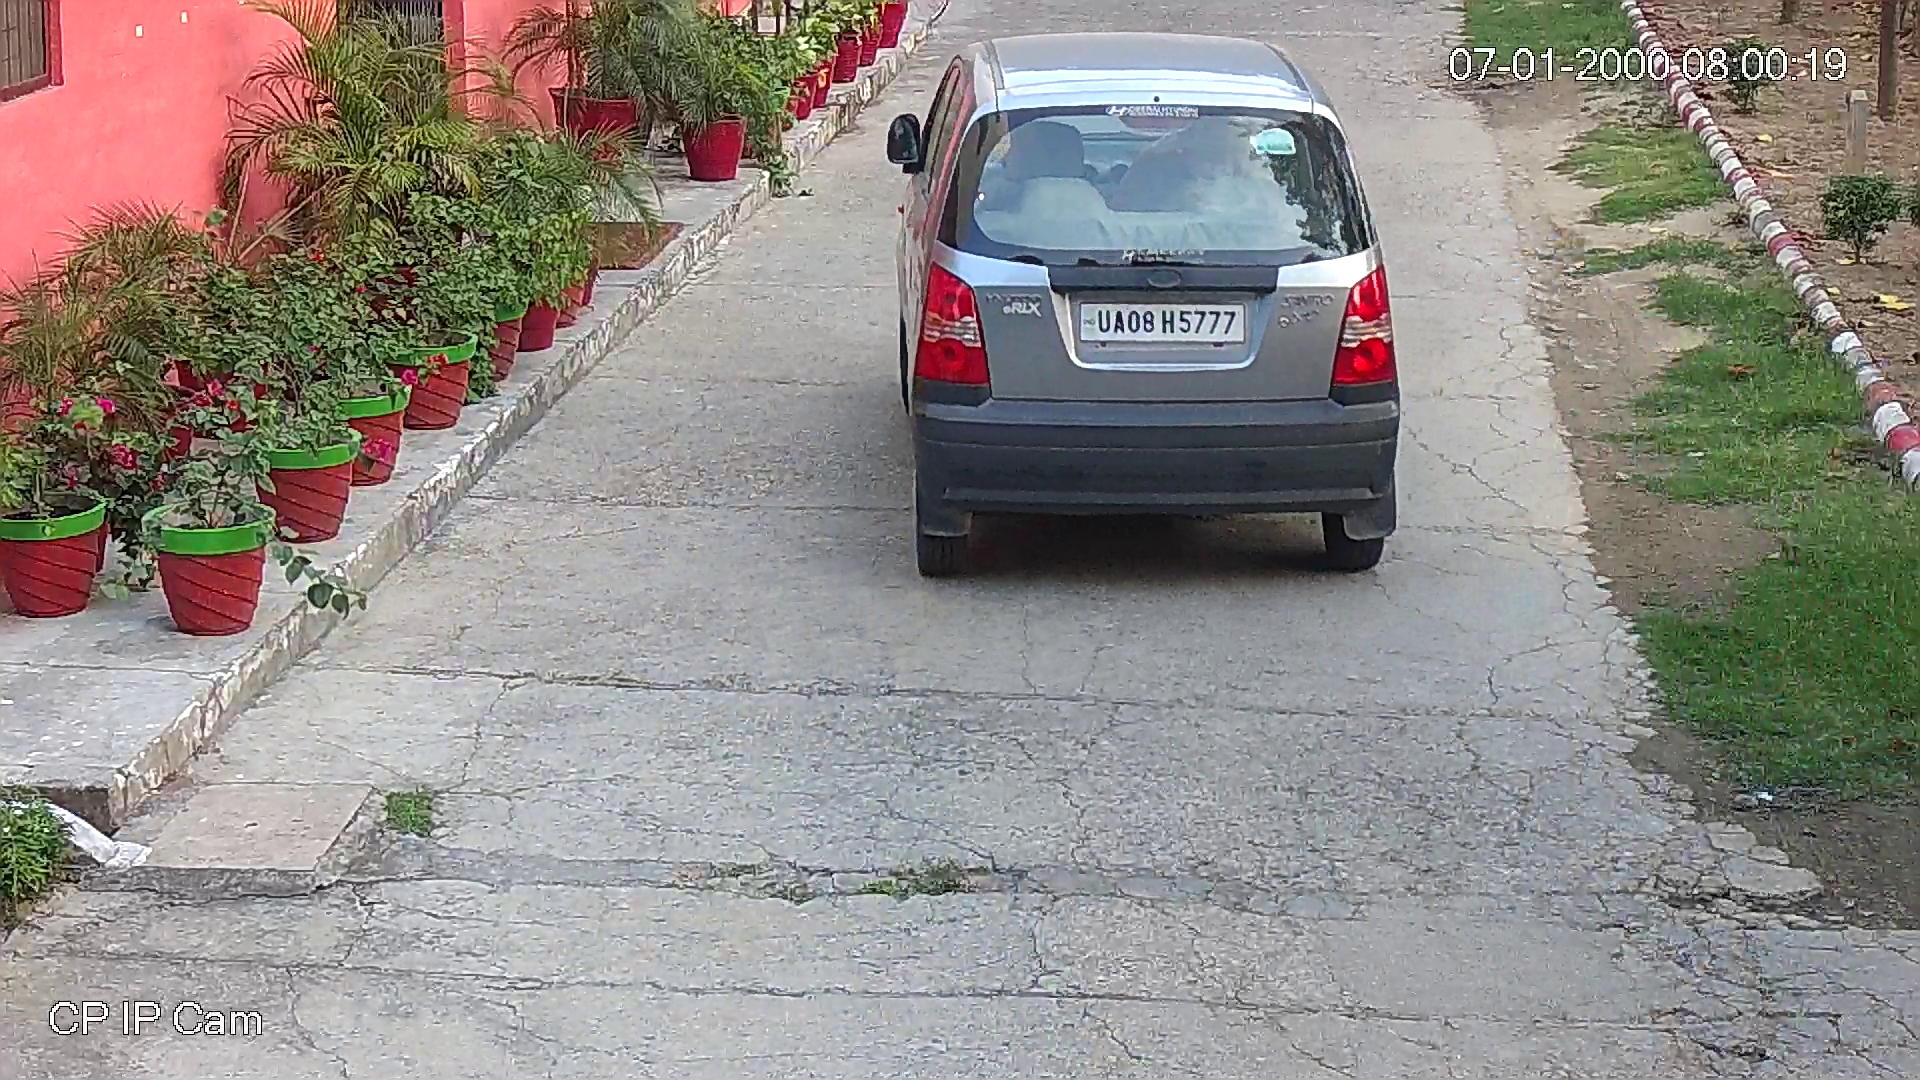plate: (1071, 295, 1253, 346)
